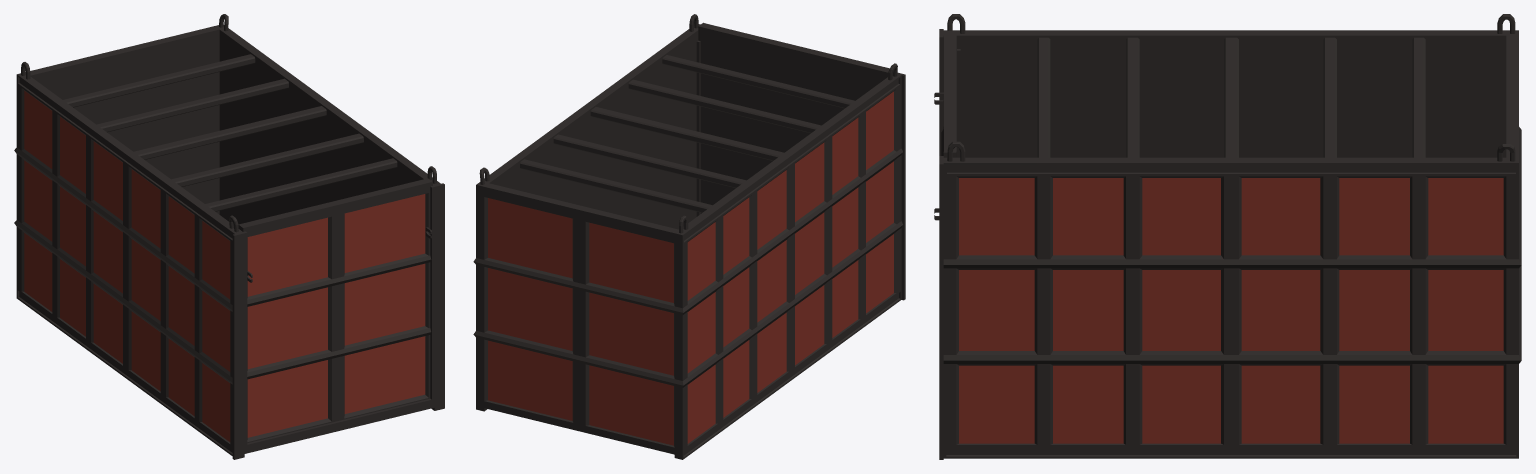
Rendered from cage_red.fbx.
The picture shows the model from 3 angles, left to right: view 1: azimuth 30°, elevation 25°; view 2: azimuth 150°, elevation 25°; view 3: azimuth 270°, elevation 25°; orthographic projection. The views are drawn at different scales.
Visible parts, largest first — view 1: cage, door; view 2: cage, door; view 3: cage, door.
Part boxes in pixels (left/top/right/bottom): cage: left=14, top=14, right=444, bottom=459; door: left=238, top=178, right=432, bottom=442; cage: left=473, top=14, right=905, bottom=459; door: left=698, top=22, right=889, bottom=213; cage: left=939, top=14, right=1521, bottom=459; door: left=934, top=30, right=956, bottom=220.
Bounding box in the file's own units: 1689 × 1824 × 3095.
